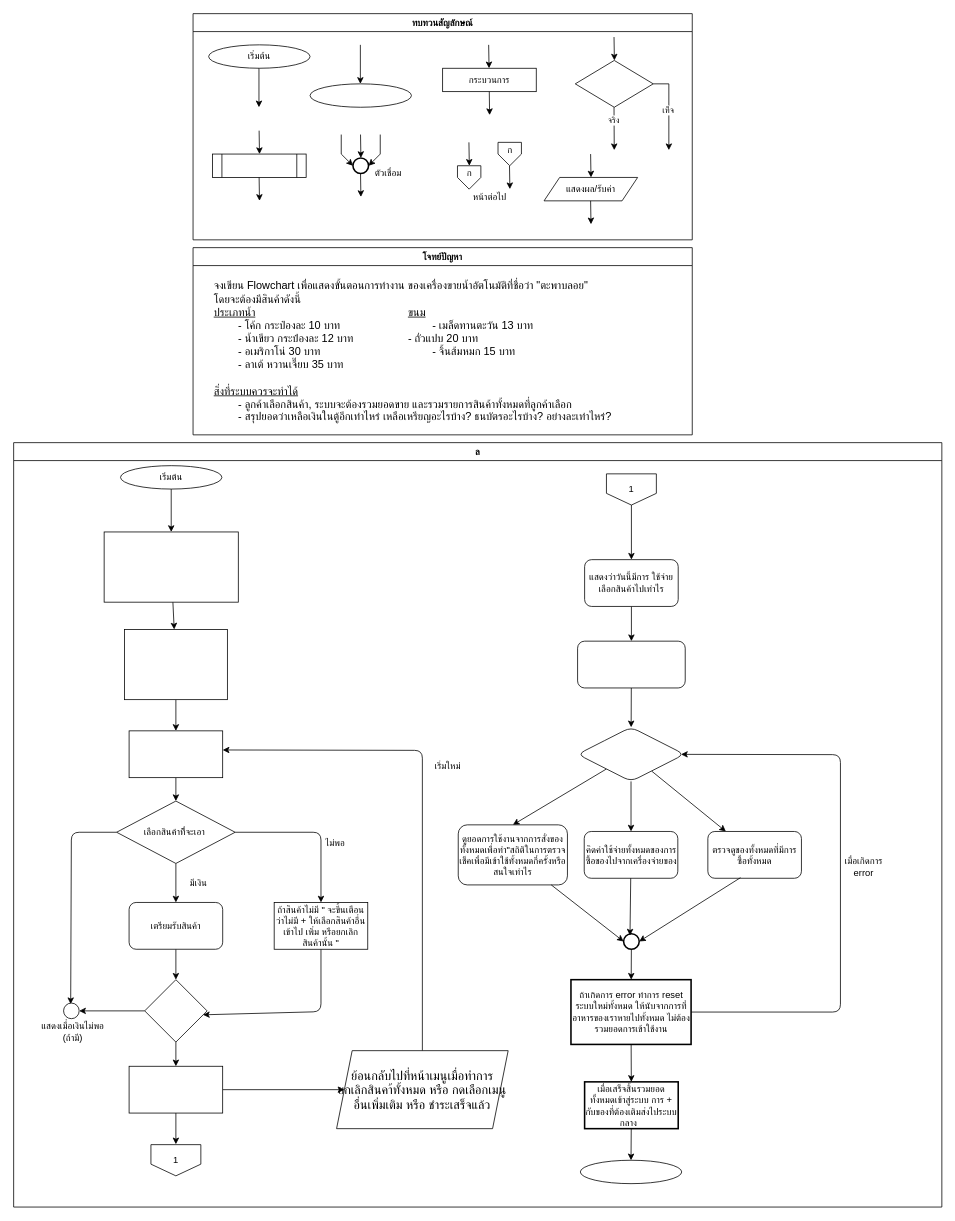
The diagram is 955 pixels wide and 1221 high, and some of its shapes have lost their labels. The centre of each missing label's shape, as x and y in pixels:
"จ่ายสินค้าให้ลูกค้า" goes at (x=175, y=1089).
"ตรวจค่าใช้จ่ายทั้งหมด/ของที่ลดหายไป" goes at (x=630, y=753).
"ประโยคเงื่อนไข" goes at (x=613, y=83).
"ฟังก์ชัน/โมดูล" goes at (x=259, y=165).
"รวมยอดทั้งหมดที่มีการ ใช้จ่ายไปวันนี้ + กับของที่ลดหายไป" goes at (x=631, y=664).
"ลูกค้าเลือกจำนวนสินค้าที่ต้องการ" goes at (x=175, y=754).
"สิ้นสุด" goes at (x=360, y=95).
"เงินพอไหม" goes at (x=175, y=1010).
"เสร็จสิ้น" goes at (x=631, y=1171).
"แสดงสินค้า โค้ก 10 บาท น้าเขียว 12 บาท อเมริกาโน่ 30 บาท ละเต้หวานเจี๊ยบ 35 บาท" goes at (x=170, y=566).
"แสดงสินค้าเประเภทประขนม เมล็ดทานตะวัน 13 บาท ถั่วแปบ 20 บาท จิ้นส้มหมก 15 บาท" goes at (x=175, y=664).
